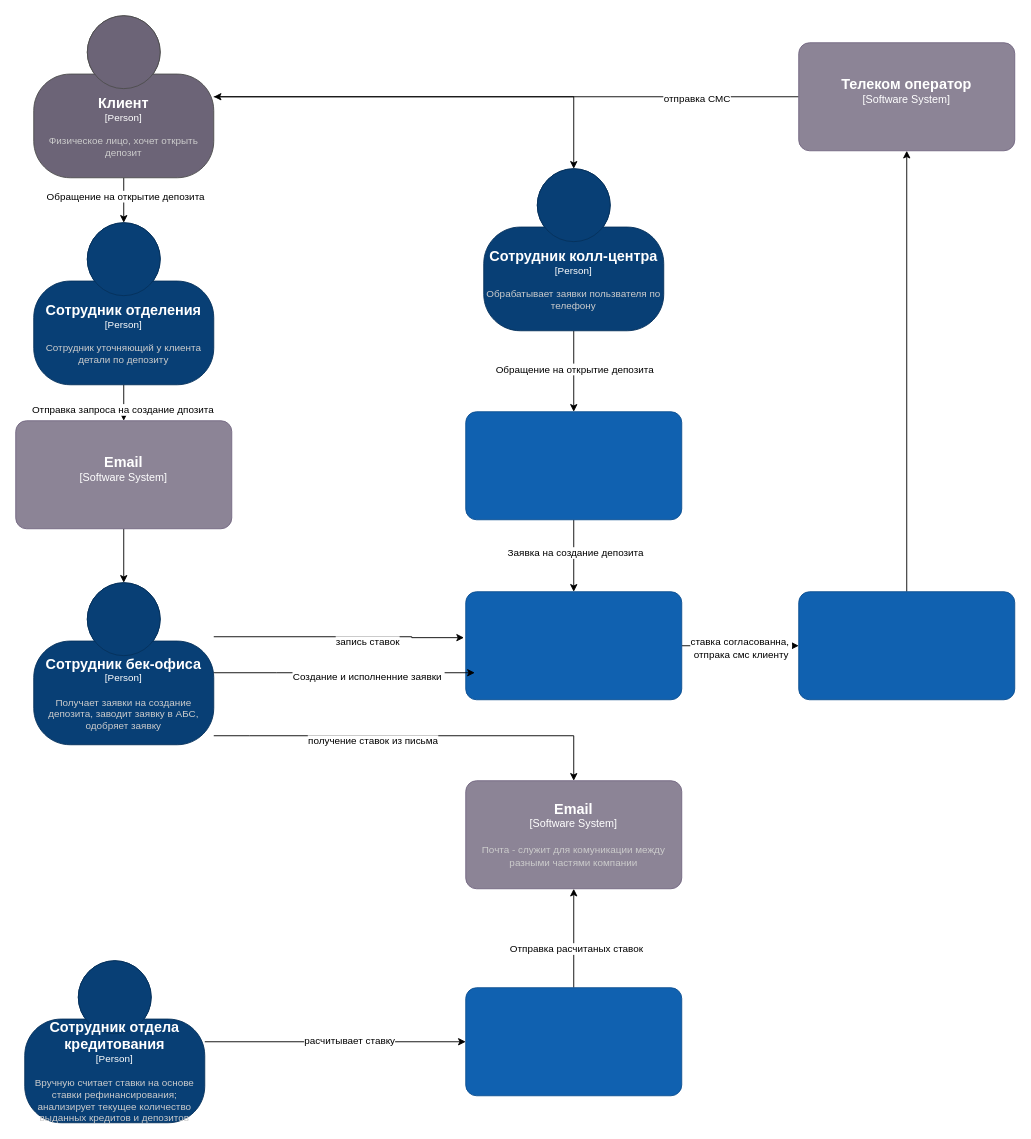
The diagram is 1031 pixels wide and 1139 high, and some of its shapes have lost their labels. The shapes that lost their labels are listed below. From the top down, each one's centre as x and y in pixels, then its label:
At (573,465): "Система колл-центра [Software System]".
At (573,645): "АБС [Software System] Высчитывает ставку для каждой заявки".
At (906,645): "СМС-шлюз [Software System]".
At (573,1041): "Excell [Software System] Табличный редактор".
